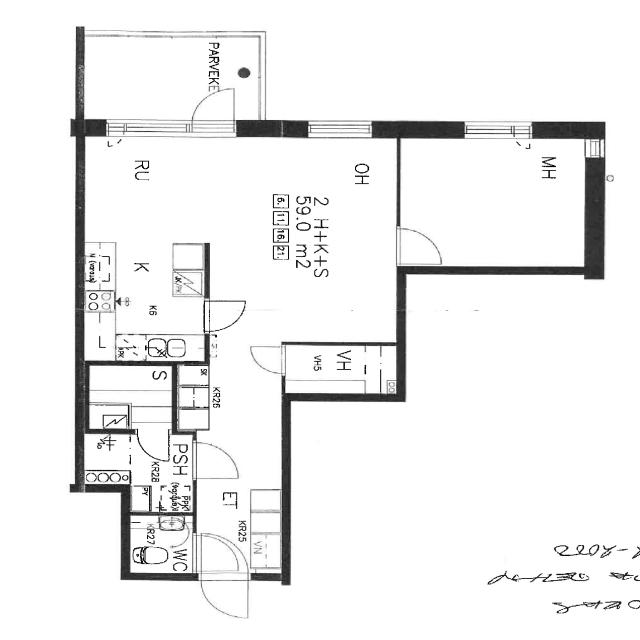door: (125, 514, 197, 578), (199, 574, 251, 626), (188, 436, 244, 484), (186, 85, 238, 134), (394, 222, 447, 265), (200, 294, 250, 332), (245, 342, 291, 377), (133, 427, 174, 464)
window: (300, 116, 377, 142), (115, 117, 191, 140), (458, 120, 522, 140), (584, 137, 607, 163)
zone: (208, 137, 398, 341), (77, 136, 209, 362), (400, 134, 594, 270), (195, 336, 287, 582), (80, 428, 198, 511), (282, 344, 400, 398), (81, 364, 176, 431)
